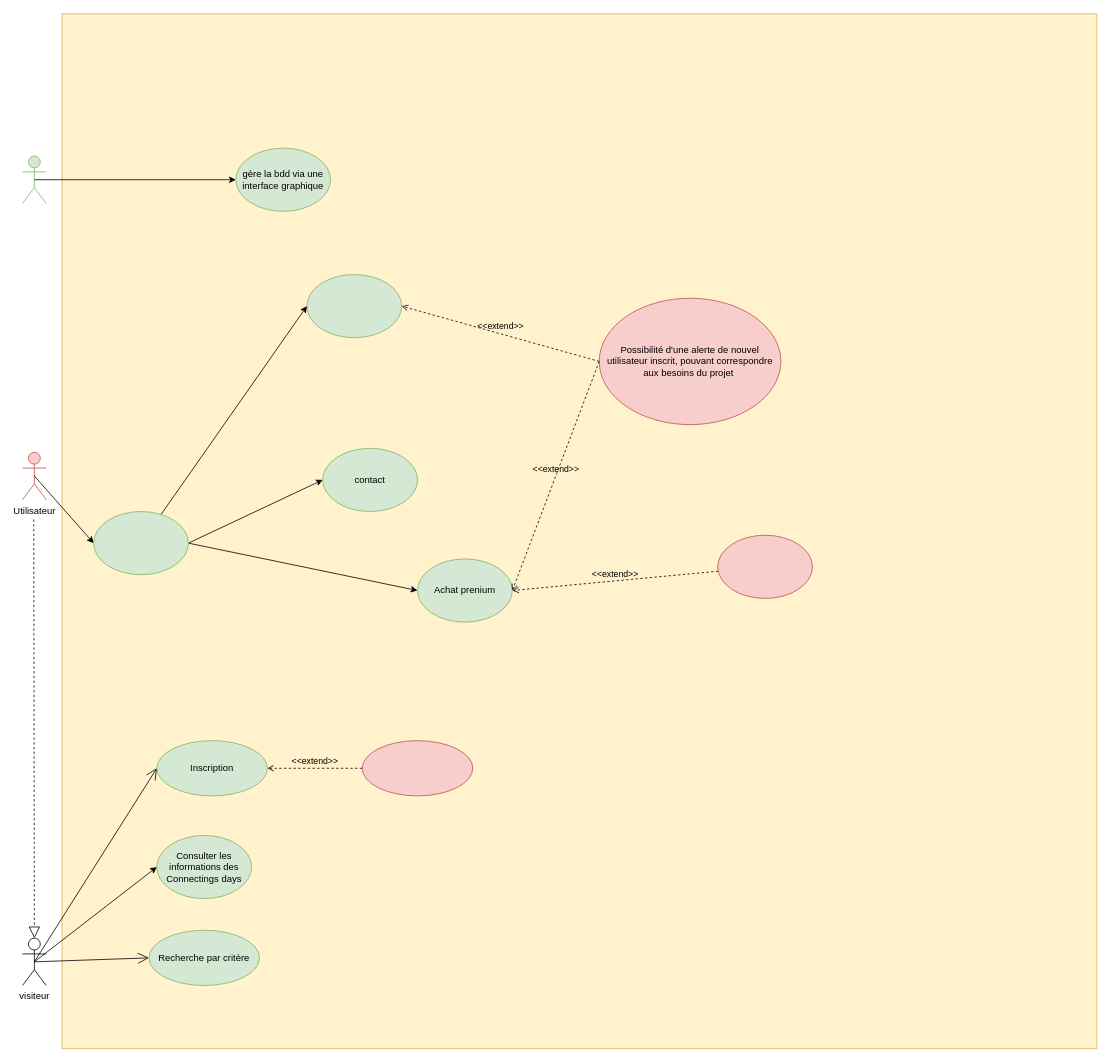
Some shapes in this 1111 by 1063 pixel diagram are drawn without their labels. The centre of each missing label's shape, as x and y in pixels:
Admin: pixel 34 179
Connexion: pixel 417 768
Création d'une fiche "projet": pixel 354 306
Remplir profil: pixel 140 543
être visible: pixel 765 566
